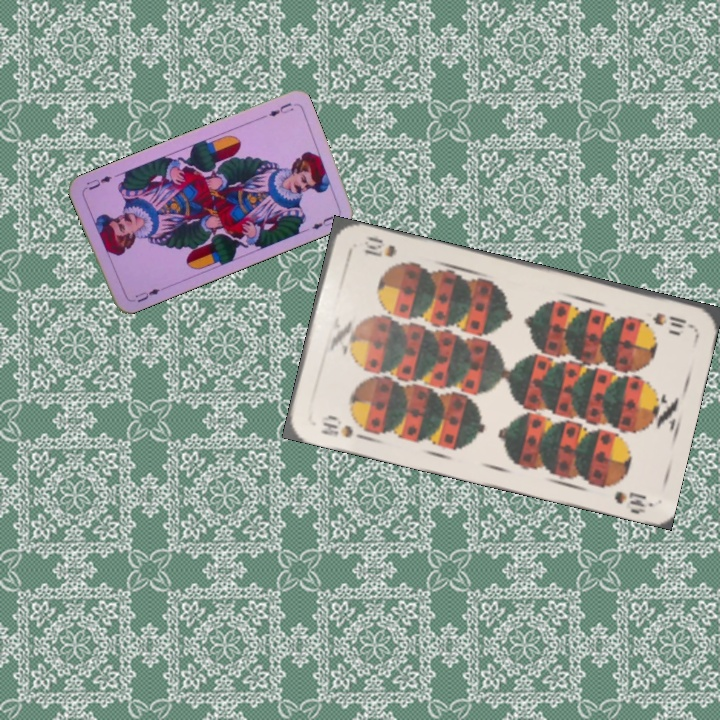EU: (131, 284, 163, 305), (265, 99, 296, 119)
S10: (317, 417, 368, 442), (648, 309, 689, 331)
